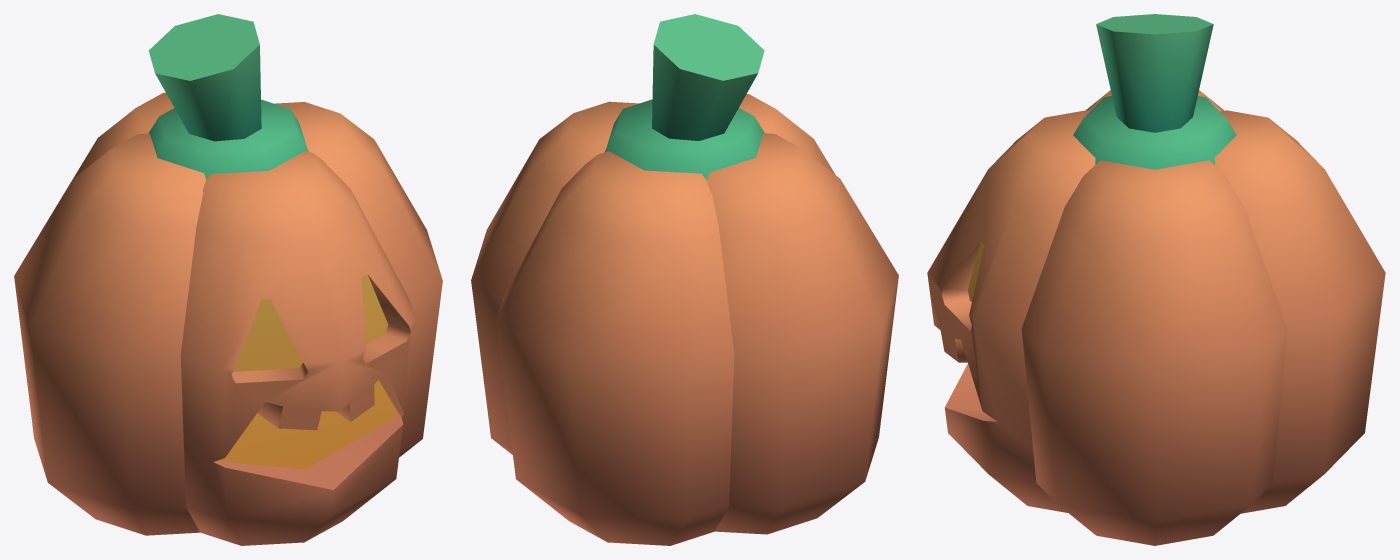
Rendered from kenney-graveyard-pumpkin-tall-carved.glb.
3 views of the same model, side by side, from view 1: azimuth 30°, elevation 25°; view 2: azimuth 150°, elevation 25°; view 3: azimuth 270°, elevation 25° (orthographic).
Visible parts, largest first — view 1: pumpkin-tall-carved; view 2: pumpkin-tall-carved; view 3: pumpkin-tall-carved.
Boxes of the visible parts, left/top/right/bottom form: pumpkin-tall-carved: left=14, top=14, right=442, bottom=545; pumpkin-tall-carved: left=471, top=14, right=898, bottom=545; pumpkin-tall-carved: left=927, top=14, right=1385, bottom=545.
Bounding box in the file's own units: 0.3255 × 0.3597 × 0.3255.
Materials: 1 (1 with a texture image).
